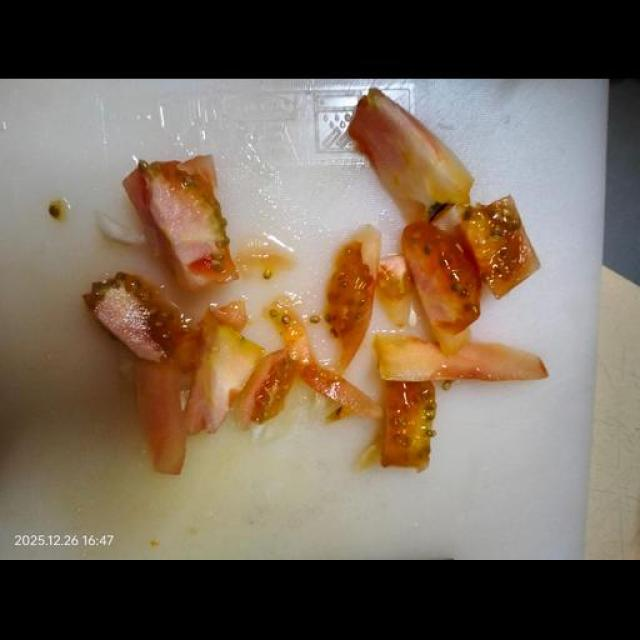organic: (115, 115, 589, 514), (428, 202, 447, 221), (309, 315, 321, 323), (263, 269, 272, 279)
